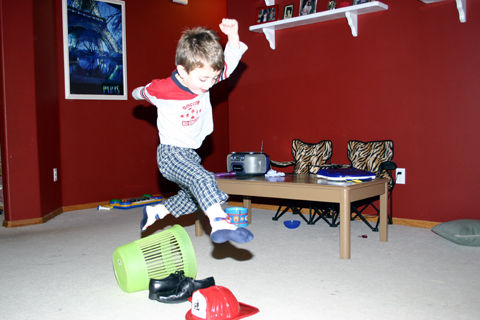person: (130, 19, 257, 247)
